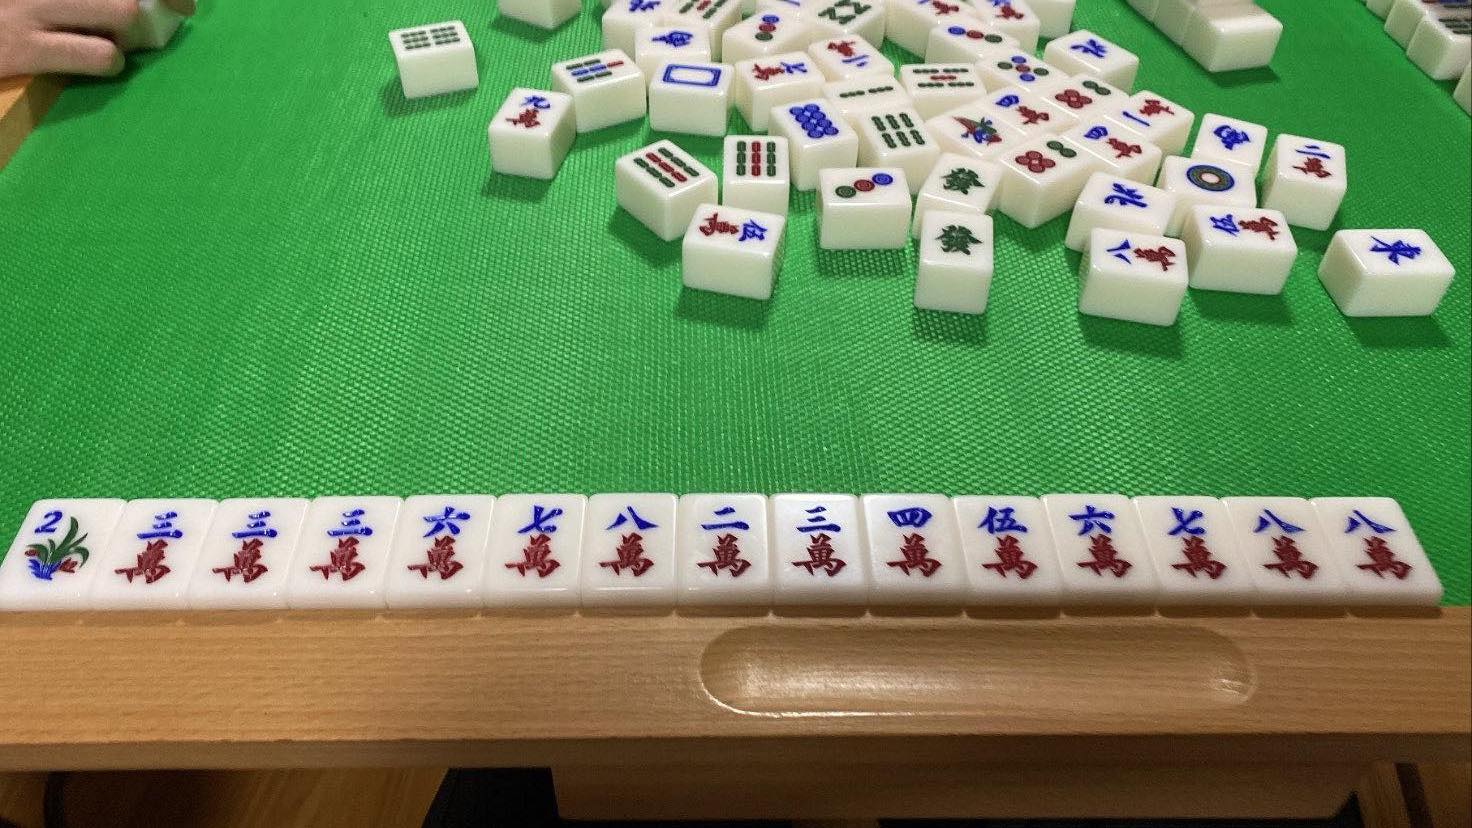bamboo-eight: (803, 1, 885, 32)
bamboo-five: (903, 64, 985, 97)
bamboo-nine: (619, 140, 714, 197), (726, 136, 790, 183)
bamboo-one: (928, 101, 1023, 158)
bamboo-seven: (553, 47, 642, 92)
bamboo-six: (860, 109, 939, 158), (391, 20, 473, 58)
bamboo-two: (825, 73, 917, 116)
character-eight: (1311, 498, 1444, 596), (1222, 497, 1348, 597), (580, 493, 678, 601), (1090, 227, 1187, 285)
character-five: (953, 496, 1066, 600), (683, 202, 784, 257), (1195, 207, 1295, 249)
character-four: (863, 495, 970, 601), (1062, 115, 1162, 171), (975, 84, 1073, 137)
character-nine: (488, 87, 571, 139)
character-one: (1099, 89, 1194, 137)
character-seven: (1134, 495, 1256, 596), (482, 494, 586, 601), (735, 51, 824, 91)
character-six: (1042, 494, 1162, 599), (384, 494, 494, 603)
character-three: (87, 497, 219, 607), (186, 499, 310, 607), (287, 497, 404, 606), (770, 493, 869, 601)
character-two: (678, 494, 771, 602), (808, 33, 893, 79), (1280, 133, 1345, 190)
circle-eight: (771, 98, 859, 146)
circle-five: (977, 47, 1072, 95)
circle-one: (1166, 157, 1251, 200)
circle-six: (997, 132, 1094, 184), (1039, 73, 1128, 119)
circle-three: (725, 5, 813, 51), (931, 15, 1016, 57), (820, 169, 910, 205)
flower-blue_two: (1, 499, 128, 608)
honor-blue_dragon: (651, 60, 732, 92)
honor-east_wind: (1340, 228, 1454, 274)
honor-green_dragon: (919, 152, 1001, 212), (922, 210, 993, 267)
honor-north_wind: (1079, 172, 1175, 229), (1050, 29, 1137, 72)
honor-south_wind: (1195, 113, 1266, 165), (636, 28, 708, 53)
